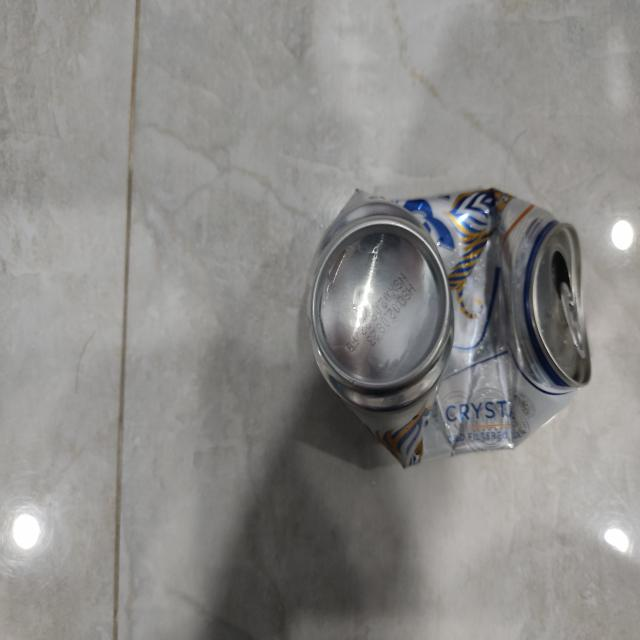metal: (308, 188, 592, 467)
